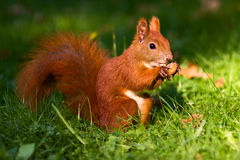Ardilla: (95, 11, 184, 134)
